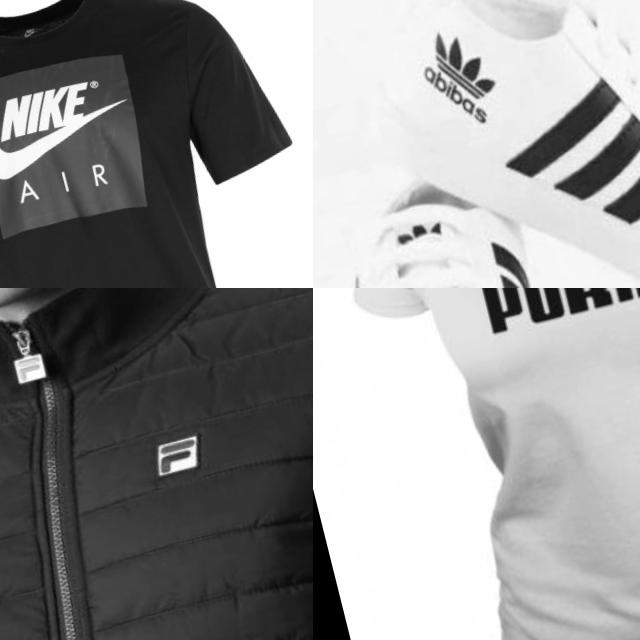ADIDAS_fake: (489, 42, 640, 288), (399, 17, 509, 145)
FILA_original: (121, 418, 232, 503)
NIKE_original: (0, 46, 146, 189)
PUMA_fake: (446, 288, 640, 352)
